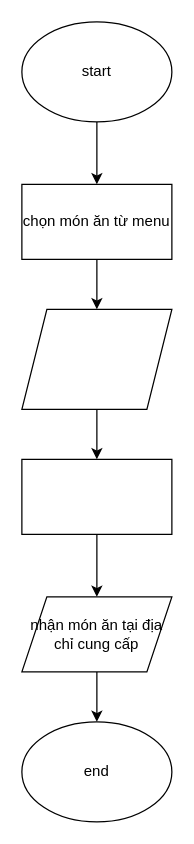
The diagram is 194 pixels wide and 844 high, and some of its shapes have lost their labels. Here are the shapes that lost their labels. From the top down, the box of each, then its label:
(21, 308, 172, 409): nhập thông tin,sdt và địa chỉ
(21, 458, 172, 534): thanh toán
